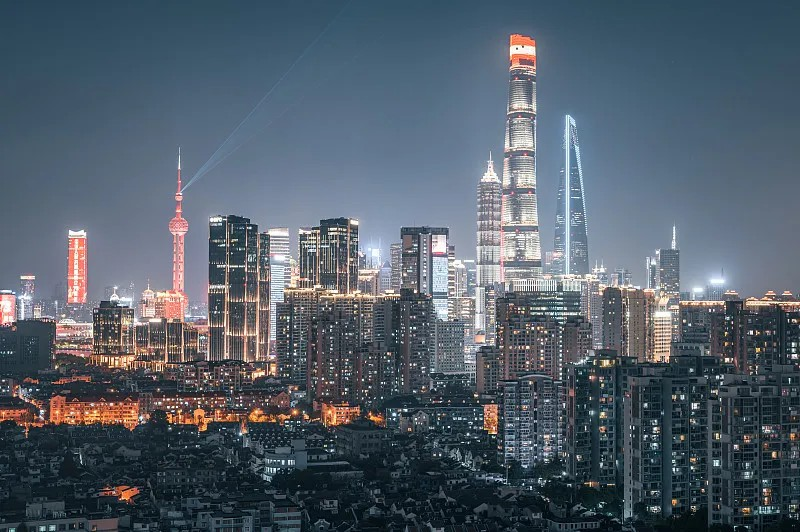Oriental: (169, 146, 189, 309)
